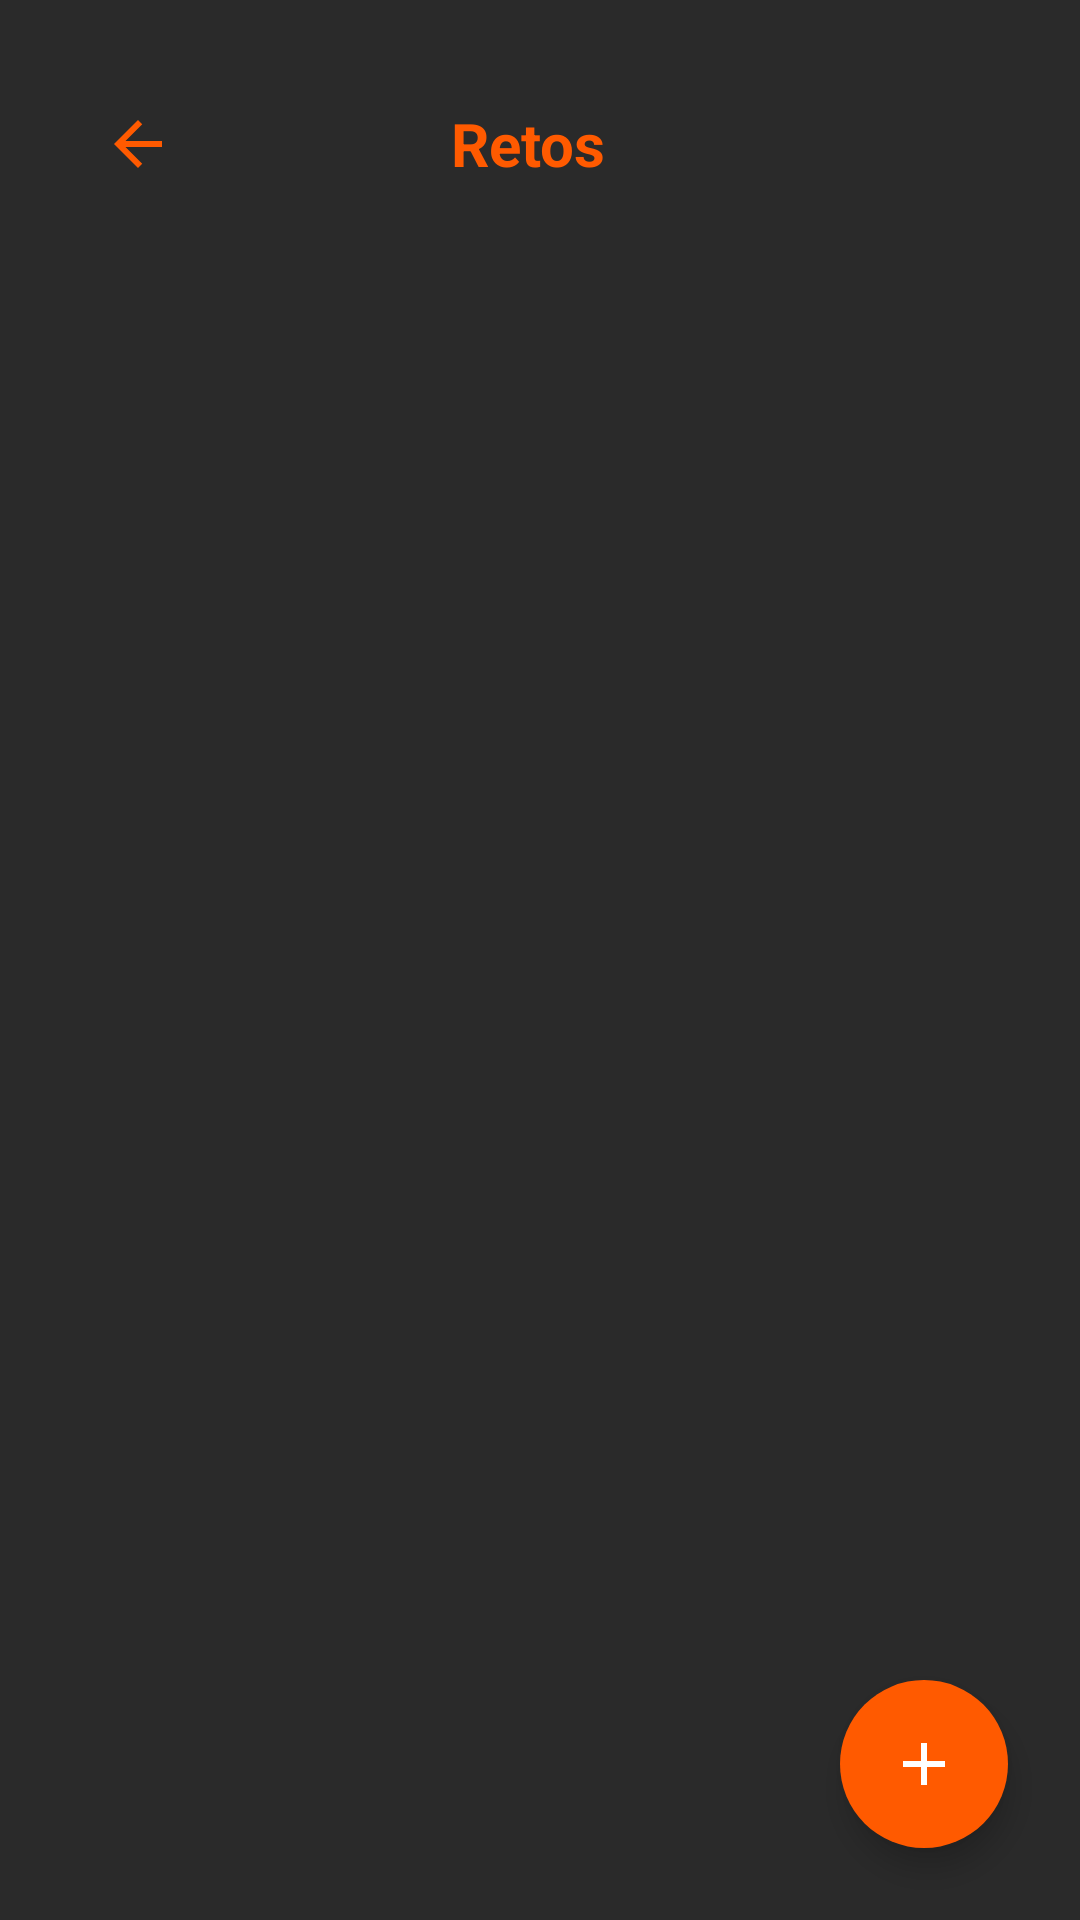

Point at icon controls on the screen. Image size 1080 × 1920, points as (x,y).
Agregar nuevo reto: (924,1764)
Volver al home: (138,144)
